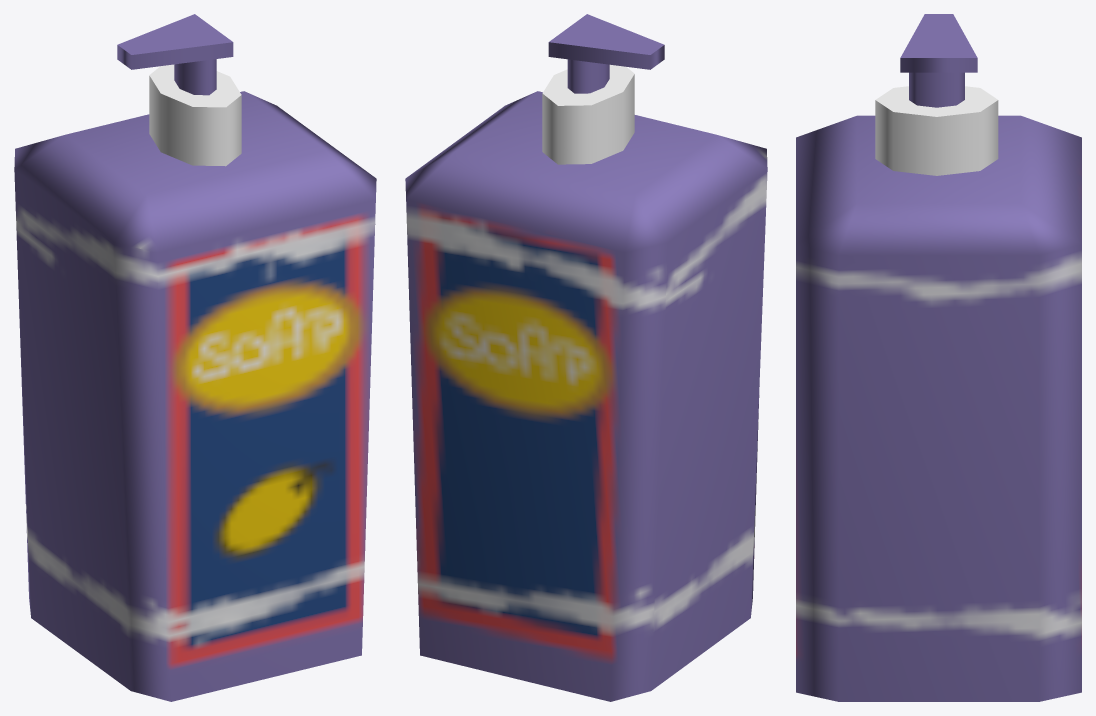
The model's file is Cleaners_02.fbx.
The picture shows the model from 3 angles, left to right: view 1: azimuth 30°, elevation 25°; view 2: azimuth 150°, elevation 25°; view 3: azimuth 270°, elevation 25°; orthographic projection.
Visible parts, largest first — view 1: Cleaners_02; view 2: Cleaners_02; view 3: Cleaners_02.
Boxes of the visible parts, <box> form: Cleaners_02: <box>14,14,376,701</box>; Cleaners_02: <box>405,14,767,701</box>; Cleaners_02: <box>796,14,1081,701</box>.
Bounding box in the file's own units: 6.62 × 14.31 × 6.21.
